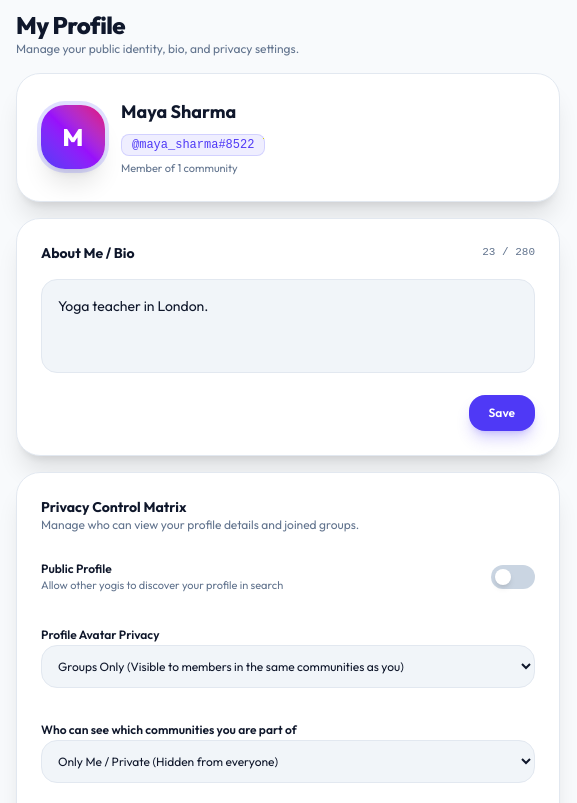
ProfileView Component › saves bio updates when submitting bio form
Replace the text in the text box with test id "bio-textarea" with "Updated bio for testing." at (288,326), box x1=41 y1=278 x2=535 y2=372
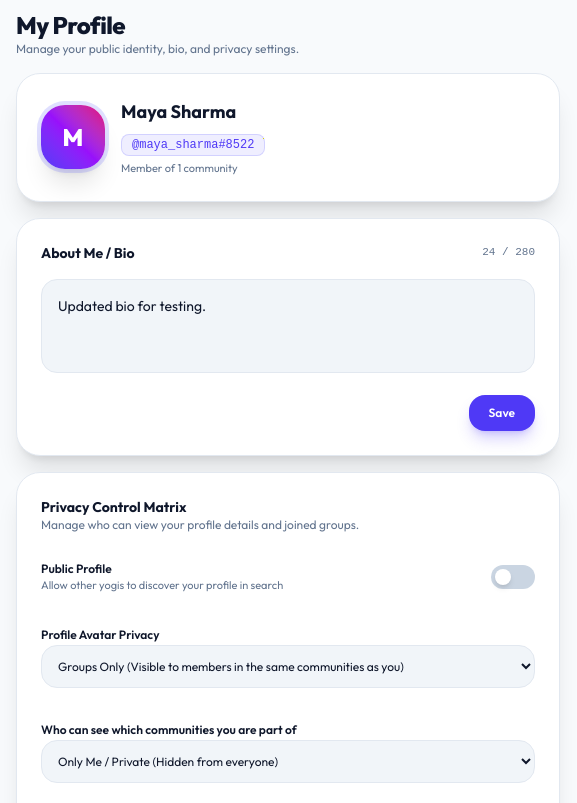
Click the button with test id "save-bio-button" at (502,412), box x1=469 y1=394 x2=535 y2=430
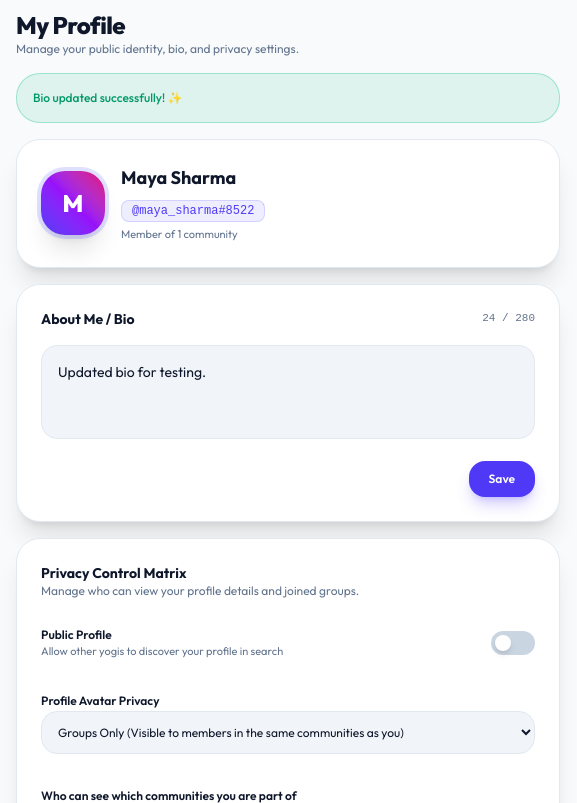
expect the text with test id "profile-feedback" shows "Bio updated successfully!": met, box x1=33 y1=90 x2=182 y2=105
